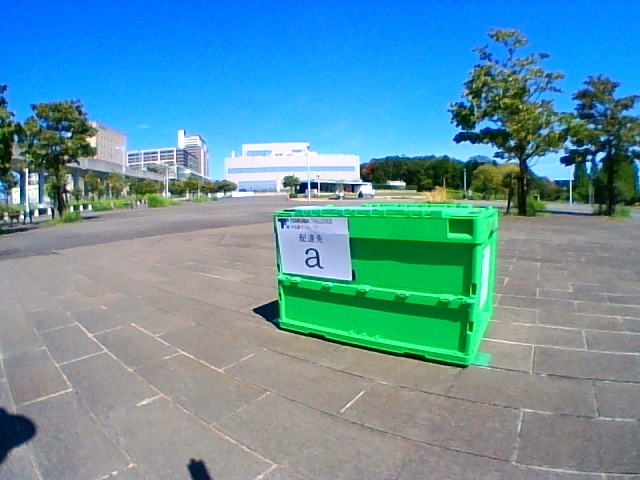green_box: (274, 203, 498, 367)
tag_a: (282, 220, 348, 273)
